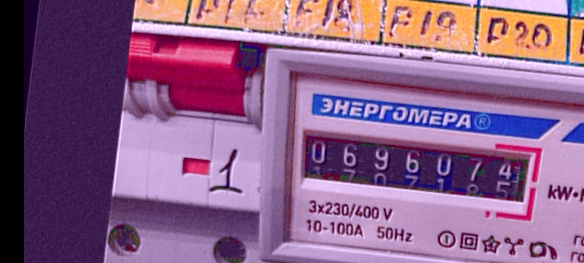0: (309, 139, 331, 166), (435, 151, 455, 179)
4: (497, 158, 516, 181)
5: (495, 180, 513, 202)
6: (403, 147, 424, 176), (341, 142, 361, 169)
7: (467, 156, 486, 184)
9: (372, 145, 391, 172)
screen: (287, 117, 547, 227)
